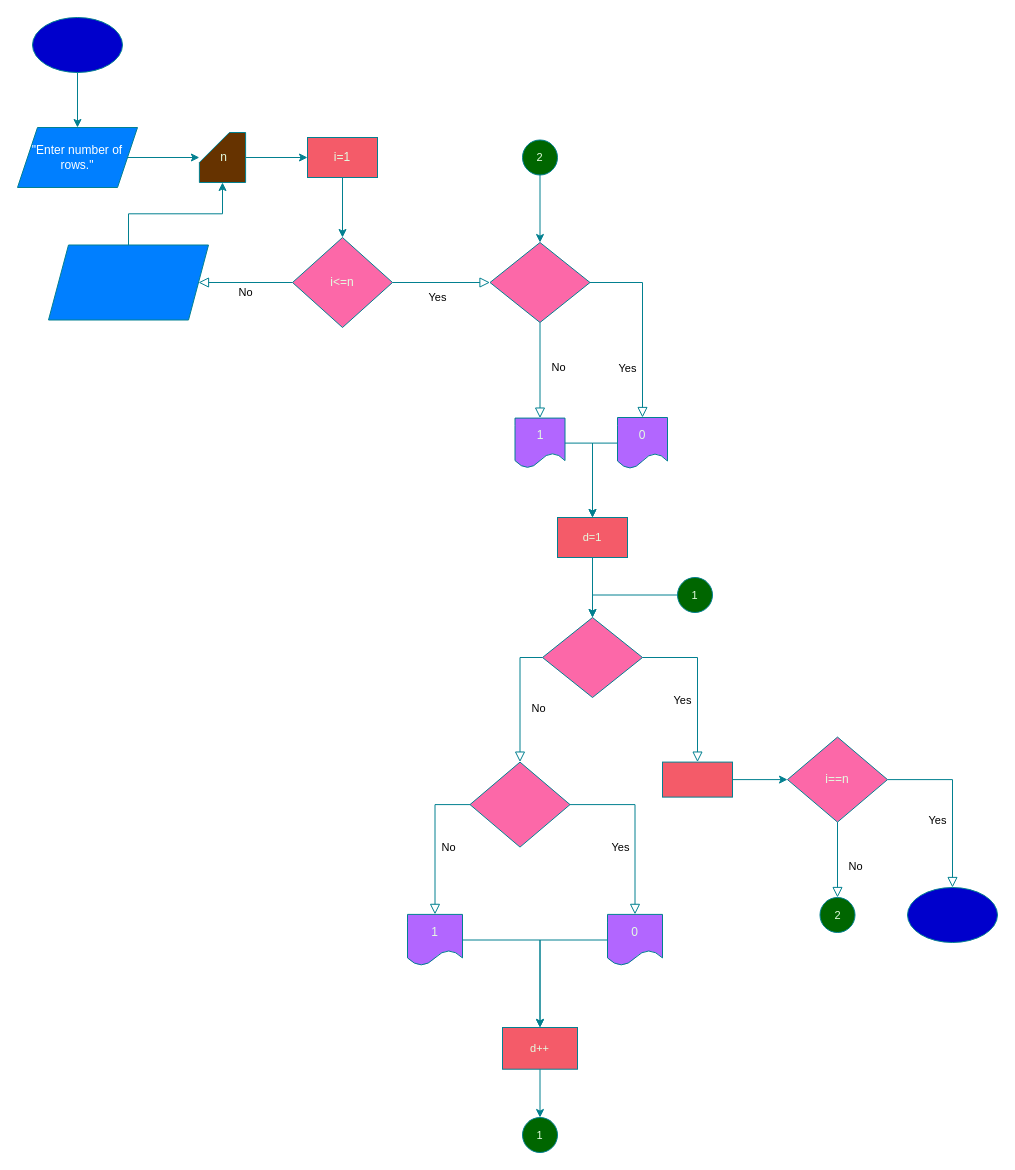
This 1015x1170 diagram has some shape labels left out. Here are the shapes that lost their labels. From the top down, the centre of each, then its label:
(77,44): START
(128,282): "Enter number greater or equal to 1."
(539,282): i%2==0
(592,657): d==i
(697,779): i++
(519,804): (i-d)%2==0
(952,914): END
